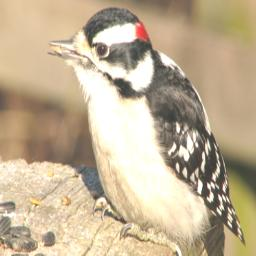Woodpecker: (43, 9, 249, 256)
